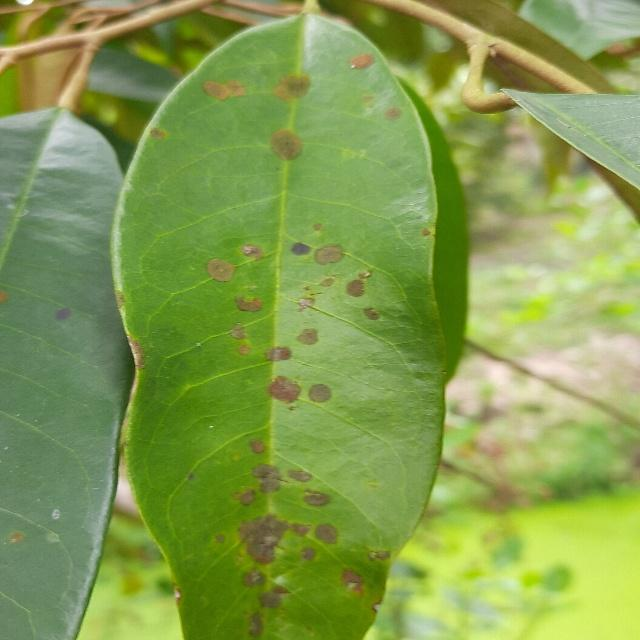Algal Leaf Spot: (111, 0, 451, 640)
